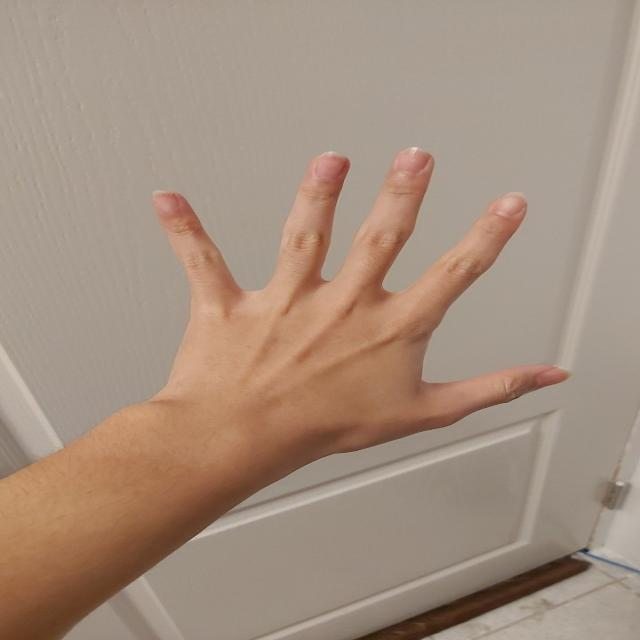no_glove: (109, 131, 588, 461)
